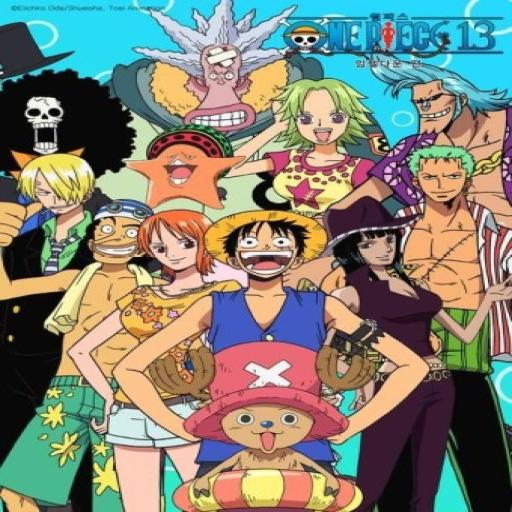Luffy: (199, 204, 336, 281)
Nami: (137, 208, 224, 278)
NicoRobin: (336, 198, 429, 281)
Usopp: (82, 195, 146, 270)
Zoro: (406, 138, 482, 206)
sanji: (13, 144, 106, 220)
